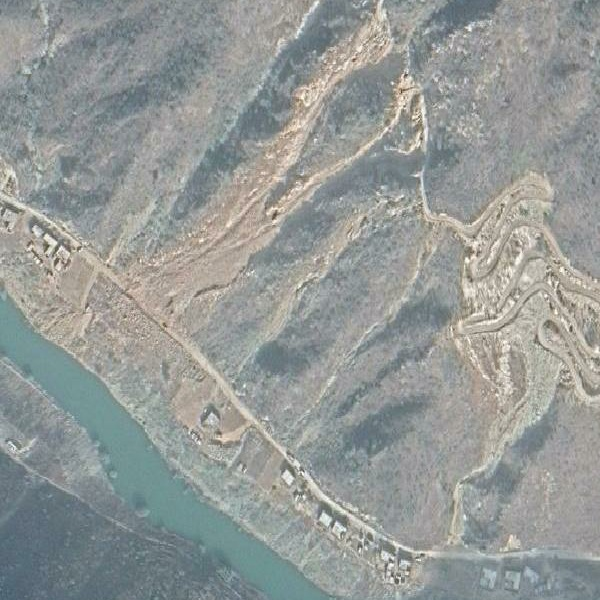slope: (116, 0, 433, 329), (444, 165, 599, 544)
